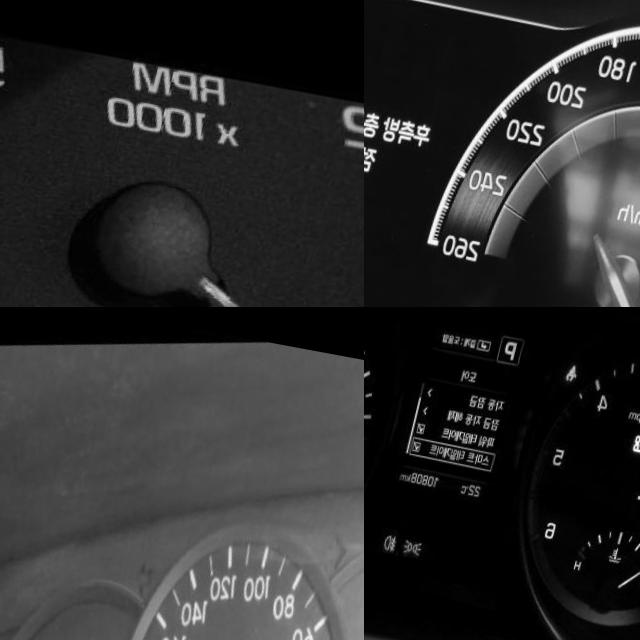FrontFogLight: (401, 521, 419, 541)
SideLamp: (422, 525, 442, 543)
